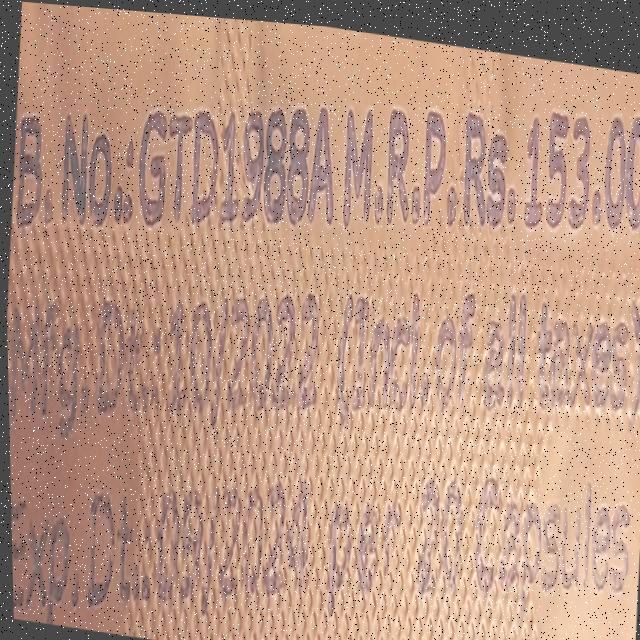sentence: (7, 269, 640, 433), (9, 462, 627, 628), (15, 91, 640, 227)
